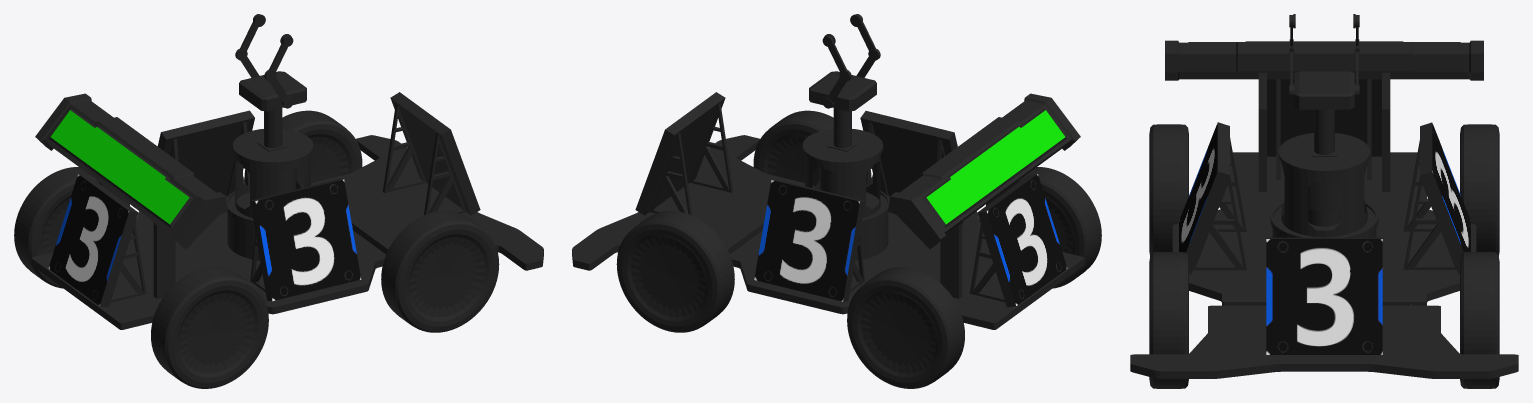
File: blue_standard.glb
3 renders of one model, left to right at view 1: azimuth 30°, elevation 25°; view 2: azimuth 150°, elevation 25°; view 3: azimuth 270°, elevation 25°, orthographic. The views are drawn at different scales.
Visible parts, largest first — view 1: Cylinder.001, Cylinder, Cube.003, plate_front.003, Cube.002, Cube.001, plate_front.001, plate_front.002, Cylinder.003, plate_front, Cube.011, Cube.004 (+6 smaller); view 2: Cylinder.001, Cylinder, Cube.003, plate_front.002, Cube.002, Cube.001, plate_front.001, plate_front.003, Cylinder.003, plate_front, Cube.011, Cylinder.002 (+6 smaller); view 3: Cube.002, Cube.001, plate_front, Cube.003, Cylinder.001, Cylinder, Cylinder.003, plate_front.001, plate_front.003, plate_front.002, Cube.011, Cube.004 (+9 smaller).
Boxes of the visible parts, x1=… form: Cylinder.001: x1=14, y1=167, x2=268, y2=388; Cylinder: x1=244, y1=110, x2=499, y2=332; Cube.003: x1=35, y1=93, x2=227, y2=248; plate_front.003: x1=250, y1=179, x2=361, y2=301; Cube.002: x1=31, y1=195, x2=385, y2=329; Cube.001: x1=302, y1=135, x2=543, y2=270; plate_front.001: x1=48, y1=174, x2=138, y2=307; plate_front.002: x1=157, y1=110, x2=254, y2=195; Cylinder.003: x1=232, y1=128, x2=313, y2=217; plate_front: x1=390, y1=92, x2=480, y2=215; Cube.011: x1=239, y1=71, x2=306, y2=111; Cube.004: x1=98, y1=181, x2=175, y2=298; Cylinder.001: x1=847, y1=167, x2=1101, y2=388; Cylinder: x1=616, y1=110, x2=871, y2=332; Cube.003: x1=888, y1=93, x2=1080, y2=248; plate_front.002: x1=754, y1=179, x2=865, y2=301; Cube.002: x1=730, y1=196, x2=1084, y2=329; Cube.001: x1=572, y1=135, x2=813, y2=270; plate_front.001: x1=977, y1=174, x2=1067, y2=307; plate_front.003: x1=860, y1=111, x2=957, y2=195; Cylinder.003: x1=802, y1=128, x2=883, y2=217; plate_front: x1=635, y1=92, x2=725, y2=215; Cube.011: x1=809, y1=71, x2=876, y2=111; Cylinder.002: x1=812, y1=185, x2=889, y2=260; Cube.002: x1=1172, y1=152, x2=1476, y2=305; Cube.001: x1=1130, y1=305, x2=1518, y2=378; plate_front: x1=1266, y1=237, x2=1382, y2=354; Cube.003: x1=1165, y1=40, x2=1483, y2=80; Cylinder.001: x1=1149, y1=124, x2=1499, y2=255; Cylinder: x1=1149, y1=252, x2=1499, y2=388; Cylinder.003: x1=1278, y1=133, x2=1370, y2=237; plate_front.001: x1=1267, y1=79, x2=1381, y2=156; plate_front.003: x1=1179, y1=122, x2=1229, y2=274; plate_front.002: x1=1420, y1=122, x2=1470, y2=274; Cube.011: x1=1294, y1=71, x2=1354, y2=109; Cube.004: x1=1258, y1=72, x2=1390, y2=191.
Bounding box in the file's own units: 1.2 × 0.8013 × 0.9.
Materials: 3 (1 with a texture image).
